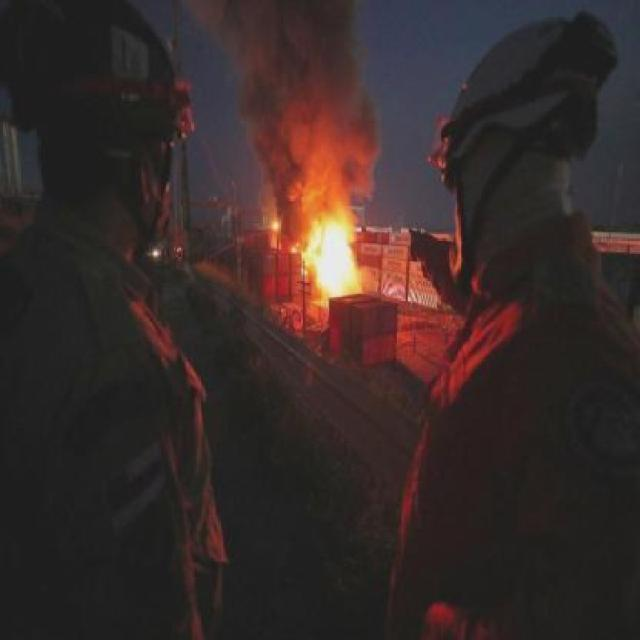Fire: (268, 151, 368, 326)
Smoke: (186, 0, 397, 212)
